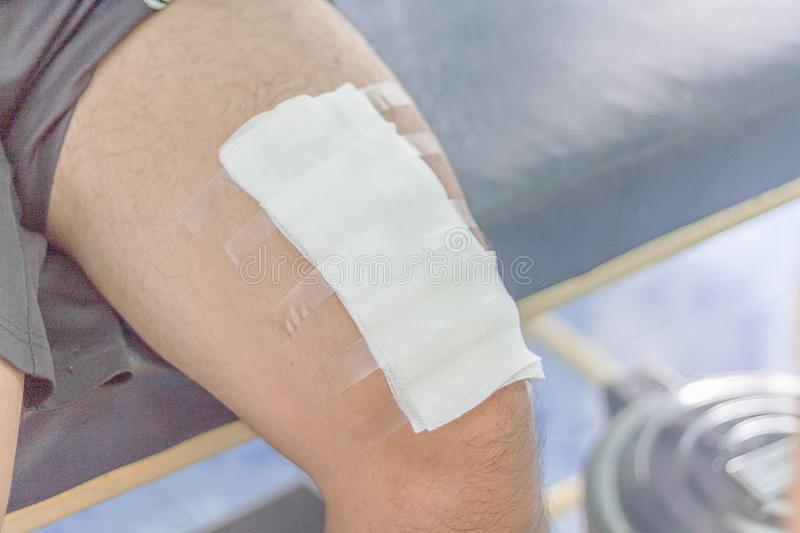gauze: (217, 78, 547, 435)
